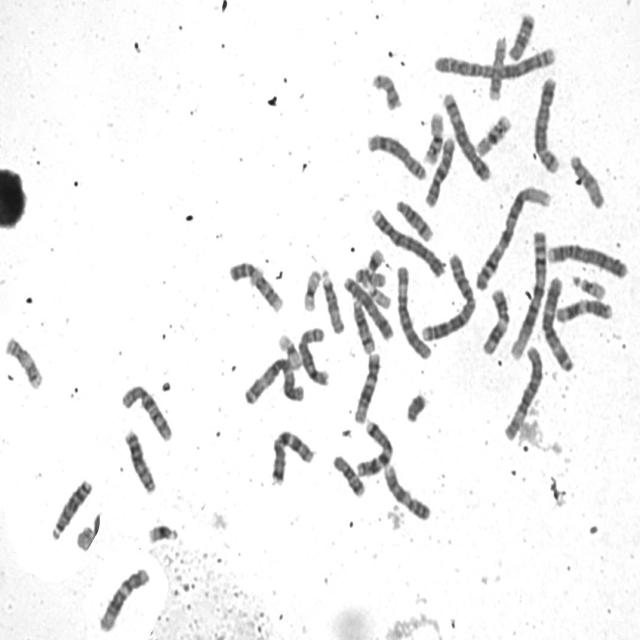A1: (472, 182, 552, 292), (506, 225, 550, 362)
A2: (417, 248, 477, 342), (430, 42, 559, 82)
A3: (539, 272, 576, 373), (240, 352, 307, 407)
B4: (367, 204, 447, 280), (544, 238, 630, 280)
B5: (439, 87, 492, 183), (530, 72, 562, 176)
C10: (118, 379, 174, 443), (422, 132, 456, 209)
C11: (478, 284, 511, 357), (552, 295, 615, 325)
C12: (95, 563, 151, 634), (351, 348, 382, 425)
C6: (500, 342, 544, 442), (393, 262, 433, 361)
C7: (267, 425, 316, 487), (352, 416, 394, 478)
C8: (363, 129, 428, 182), (294, 322, 331, 388)
C9: (225, 256, 285, 314), (380, 460, 432, 523)
D13: (47, 474, 93, 542), (121, 425, 157, 495)
D14: (392, 196, 435, 243), (348, 294, 376, 356)
D15: (566, 150, 606, 212), (318, 264, 346, 336)
E16: (473, 110, 513, 159), (420, 108, 446, 166)
E17: (2, 332, 44, 390), (484, 31, 508, 102)
E18: (504, 8, 537, 62), (330, 451, 366, 499)
F19: (275, 329, 303, 369), (300, 264, 322, 314)
F20: (368, 68, 403, 111), (352, 265, 387, 288)
G21: (144, 520, 179, 546), (363, 245, 385, 274)
G22: (569, 271, 608, 300), (365, 279, 392, 310)
X: (340, 272, 395, 342)
Y: (402, 390, 428, 424)
